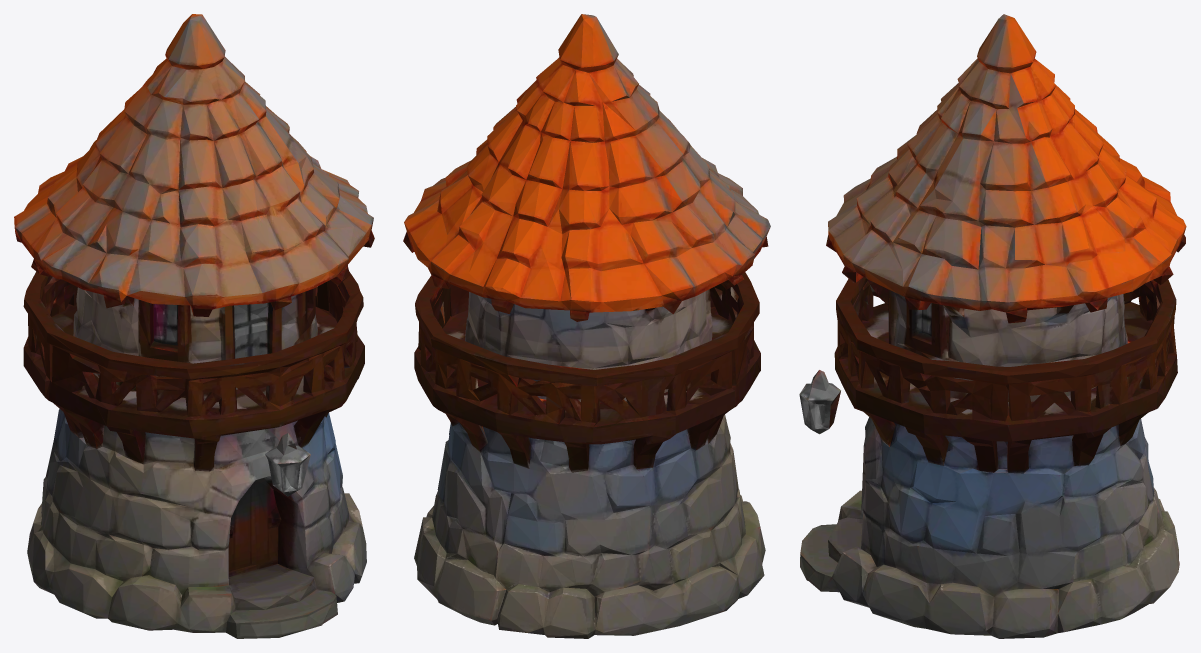
The model's file is fantasy_tower_2.glb.
3 renders of one model, left to right at view 1: azimuth 30°, elevation 25°; view 2: azimuth 150°, elevation 25°; view 3: azimuth 270°, elevation 25°, orthographic.
Bounding box in the file's own units: 1.18 × 1.97 × 1.26.
Materials: 1 (1 with a texture image).
